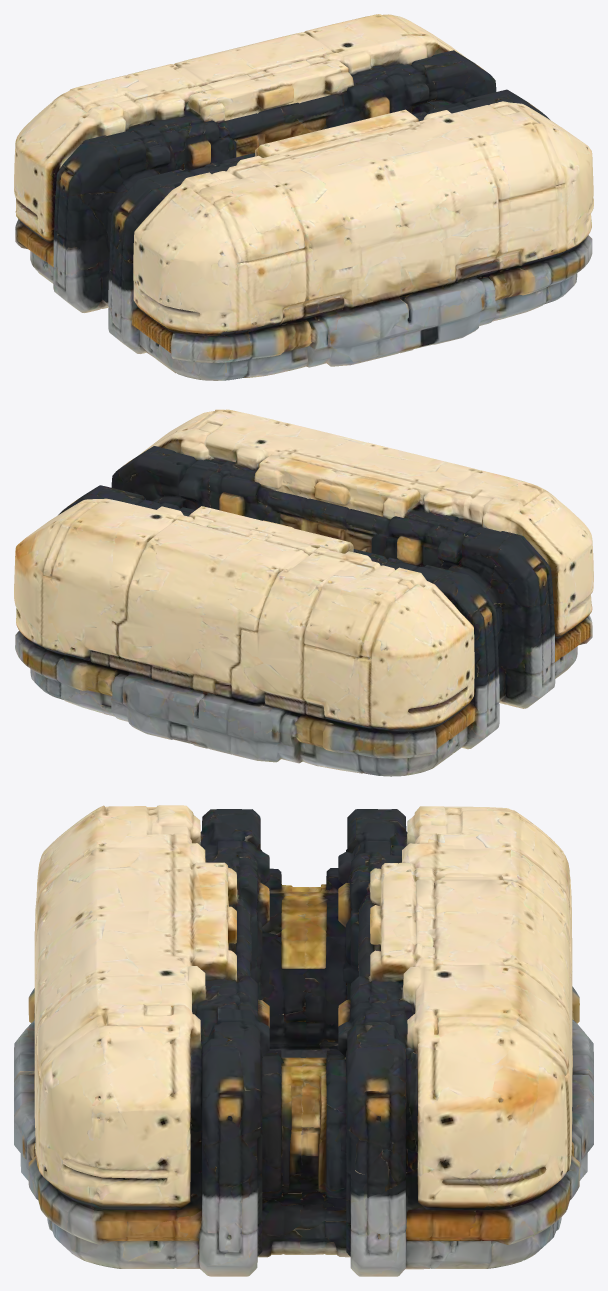
File: arc-switchback-lean.glb
The picture shows the model from 3 angles, top to bottom: view 1: azimuth 30°, elevation 25°; view 2: azimuth 150°, elevation 25°; view 3: azimuth 270°, elevation 25°; orthographic projection. The views are drawn at different scales.
Parts seen in each view (by area): view 1: chassis; view 2: chassis; view 3: chassis.
Part boxes in pixels (x1,y1,x2,y2): chassis: [14, 14, 593, 380]; chassis: [14, 409, 593, 776]; chassis: [14, 805, 593, 1276].
Size of the model in its own units: 0.99 by 0.3795 by 0.8494.
1 material, 1 textured.
